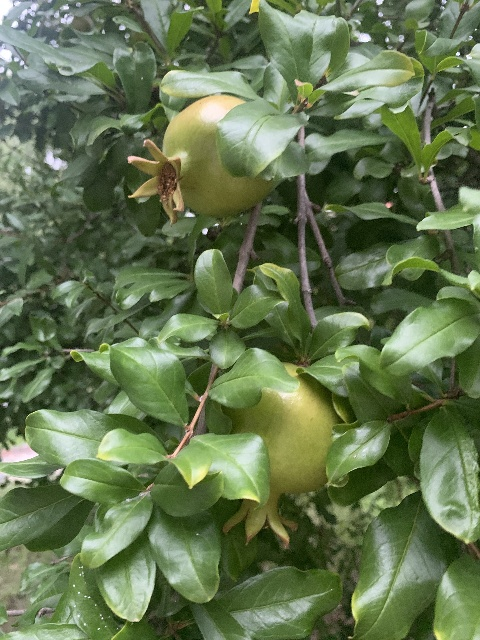mid-growth: (220, 361, 335, 547), (126, 94, 273, 226)
